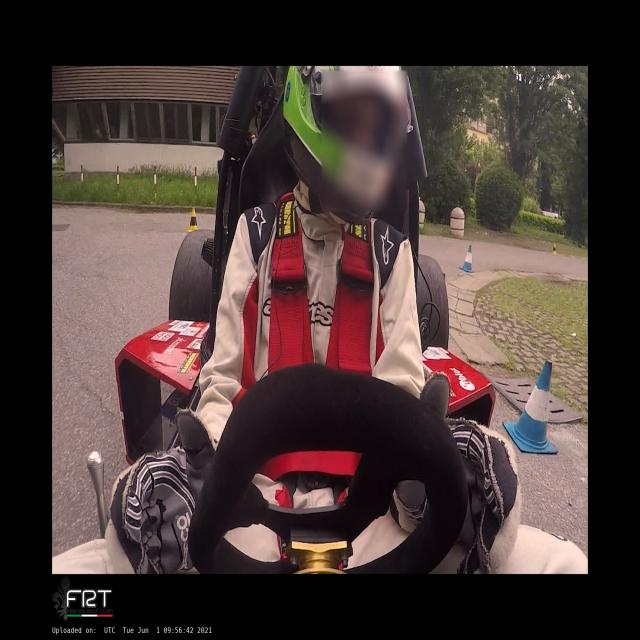blue_cone: (503, 359, 557, 454), (459, 245, 475, 273)
yellow_cone: (186, 208, 200, 232), (552, 243, 558, 255)
